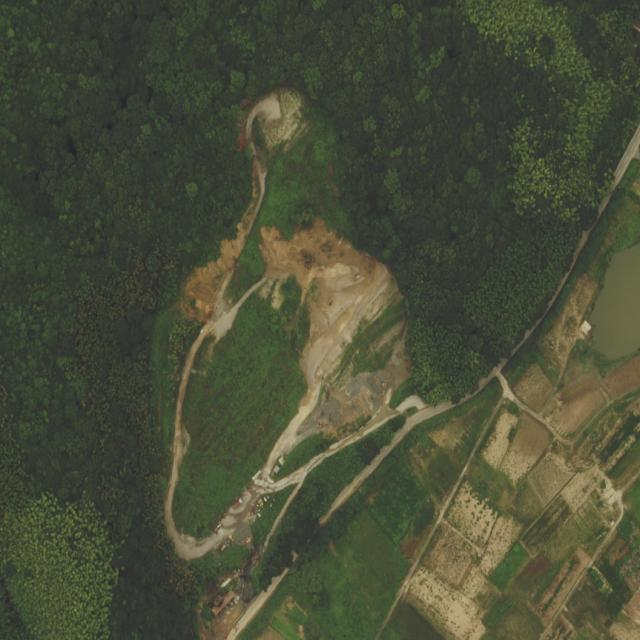landslide: (260, 218, 389, 289), (180, 208, 251, 323), (246, 87, 310, 151)
